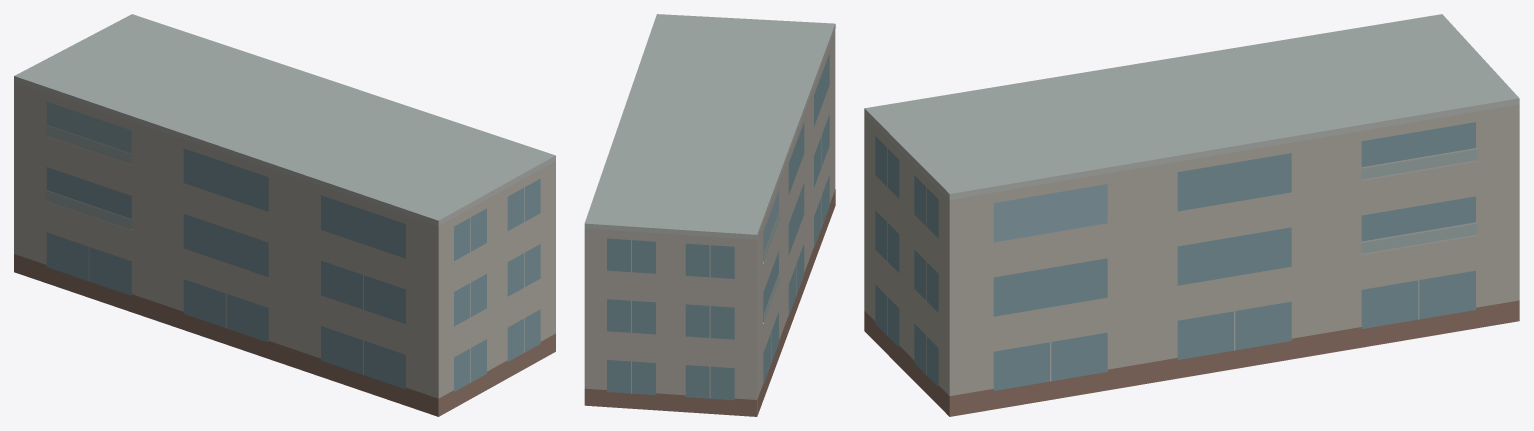
File: survey-upis-32672511.glb
3 views of the same model, side by side, from view 1: azimuth 30°, elevation 25°; view 2: azimuth 150°, elevation 25°; view 3: azimuth 270°, elevation 25° (orthographic). The views are drawn at different scales.
Parts seen in each view (by area): view 1: survey-upis-32672511.tmp; view 2: survey-upis-32672511.tmp; view 3: survey-upis-32672511.tmp.
Part boxes in pixels (x1,y1,x2,y2): survey-upis-32672511.tmp: (14,14,555,416); survey-upis-32672511.tmp: (584,14,835,416); survey-upis-32672511.tmp: (864,14,1519,416).
Size of the model in its own units: 15.87 by 9.15 by 24.39.
